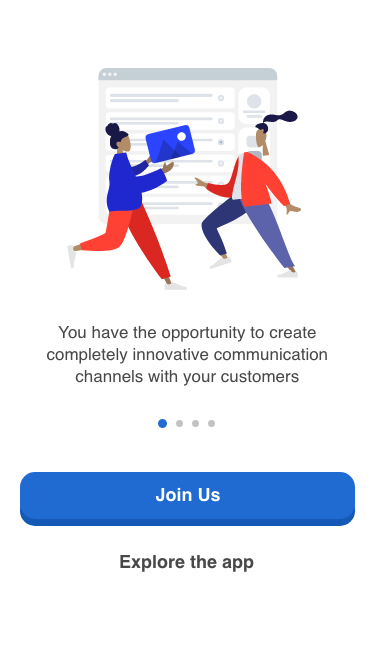Image: (65, 68, 302, 291)
PageIndicator: (157, 418, 217, 429)
Text: (47, 325, 328, 387), (120, 555, 255, 573)
TextButton: (21, 472, 356, 527)
